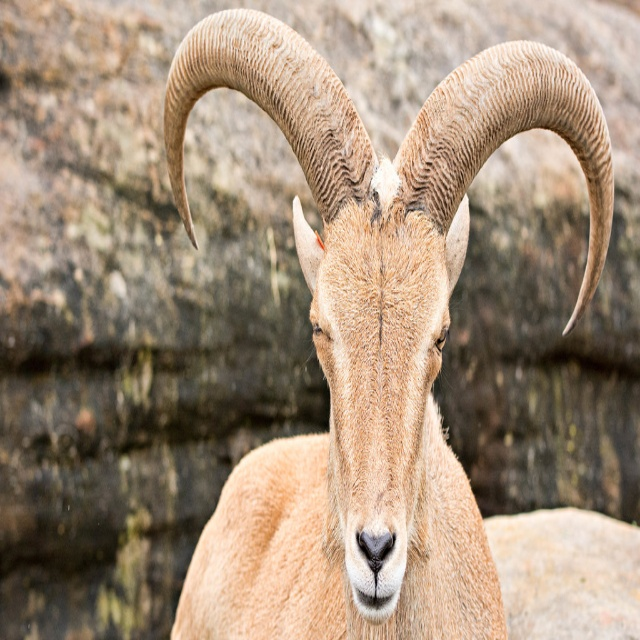Goat: (164, 9, 614, 640)
